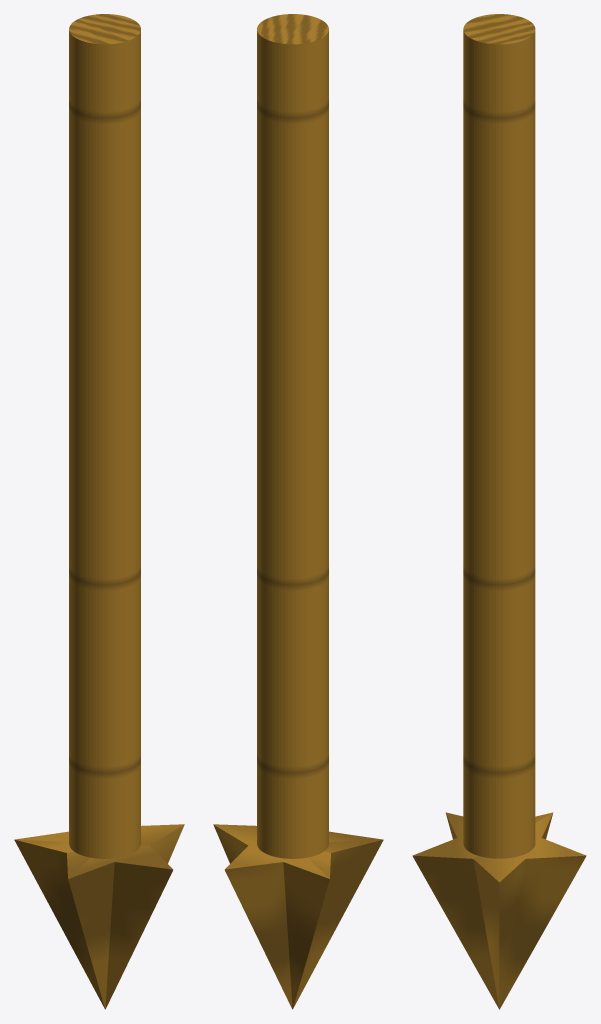
Rendered from derrick2.obj.
3 views of the same model, side by side, from view 1: azimuth 30°, elevation 25°; view 2: azimuth 150°, elevation 25°; view 3: azimuth 270°, elevation 25° (orthographic).
Parts seen in each view (by area): view 1: ColobotMesh_1_ColobotMesh_.002; view 2: ColobotMesh_1_ColobotMesh_.002; view 3: ColobotMesh_1_ColobotMesh_.002.
Boxes of the visible parts, left/top/right/bottom form: ColobotMesh_1_ColobotMesh_.002: left=14, top=14, right=184, bottom=1009; ColobotMesh_1_ColobotMesh_.002: left=213, top=14, right=383, bottom=1009; ColobotMesh_1_ColobotMesh_.002: left=412, top=14, right=586, bottom=1009.
Bounding box in the file's own units: 3.62 × 23.59 × 3.8.
